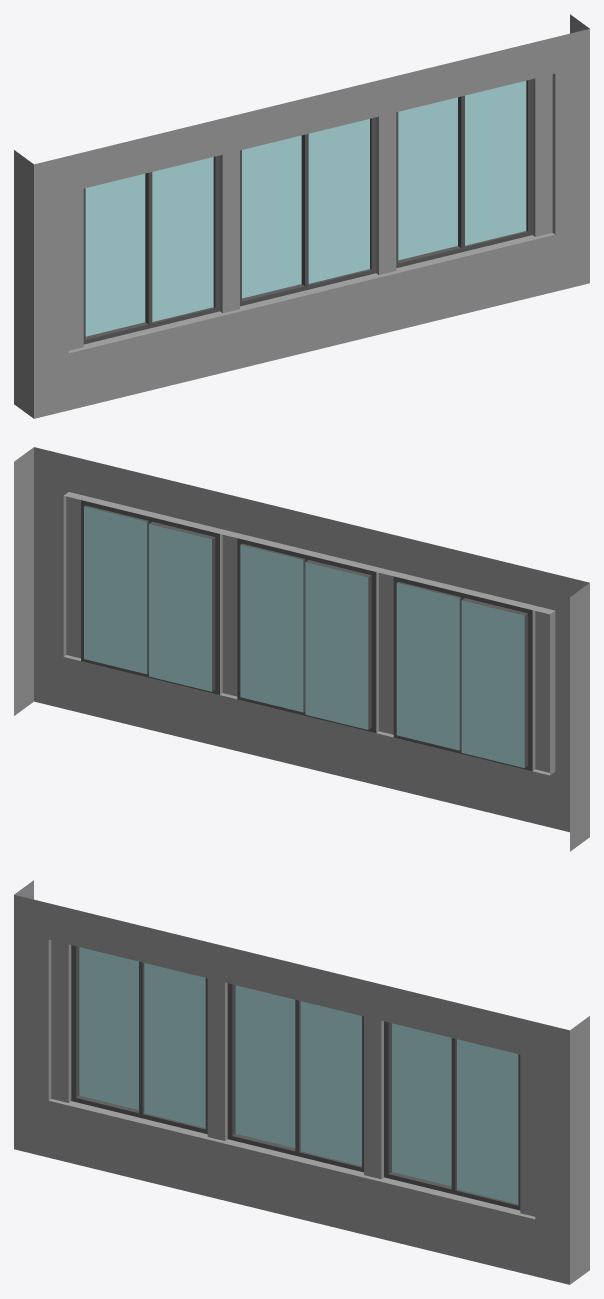
The model's file is TripleStraightWindow.fbx.
3 renders of one model, top to bottom at view 1: azimuth 30°, elevation 25°; view 2: azimuth 150°, elevation 25°; view 3: azimuth 330°, elevation 25°, orthographic.
Visible parts, largest first — view 1: TripleStraightWindow; view 2: TripleStraightWindow; view 3: TripleStraightWindow.
Boxes of the visible parts, bbox=[...] form: TripleStraightWindow: bbox=[14, 14, 589, 418]; TripleStraightWindow: bbox=[14, 447, 589, 851]; TripleStraightWindow: bbox=[14, 880, 589, 1284].
Bounding box in the file's own units: 800 × 350 × 50.
